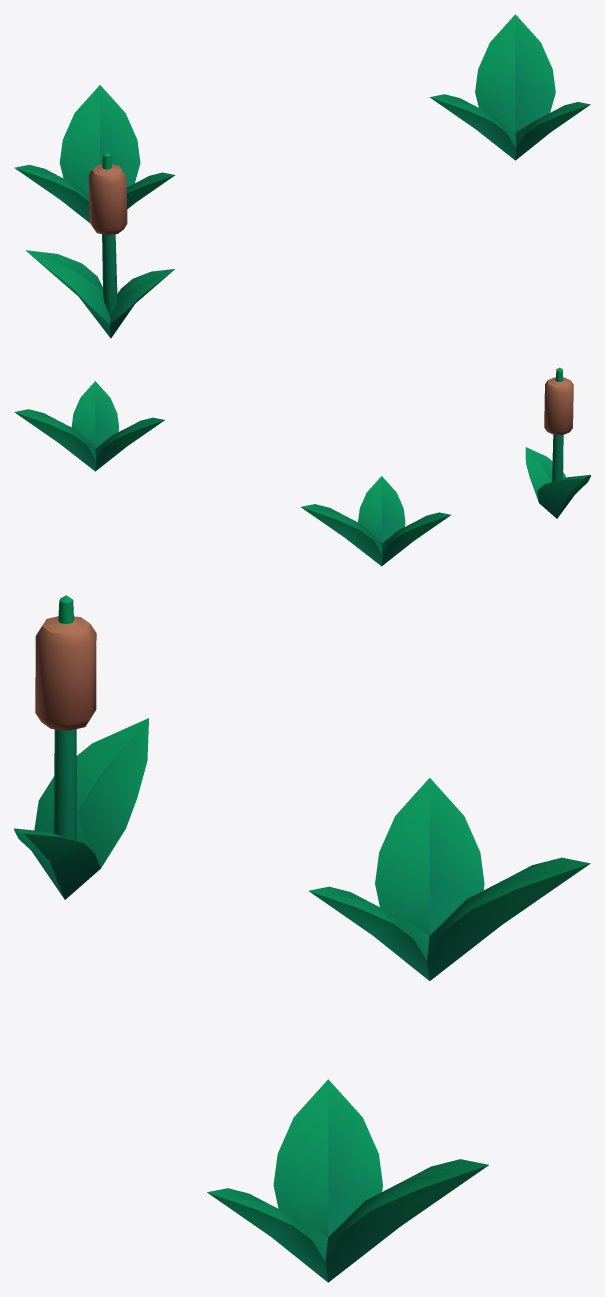
Rendered from water_plants_2.glb.
3 renders of one model, top to bottom at view 1: azimuth 30°, elevation 25°; view 2: azimuth 150°, elevation 25°; view 3: azimuth 270°, elevation 25°, orthographic. The views are drawn at different scales.
Visible parts, largest first — view 1: waterplant_A, waterplant_A.001, waterplant_B; view 2: waterplant_A.001, waterplant_A, waterplant_B; view 3: waterplant_A.001, waterplant_A, waterplant_B.
Boxes of the visible parts, <box> form: waterplant_A: <box>429,14,590,160</box>; waterplant_A.001: <box>14,85,175,222</box>; waterplant_B: <box>26,152,174,338</box>; waterplant_A.001: <box>301,476,451,566</box>; waterplant_A: <box>14,381,164,471</box>; waterplant_B: <box>525,367,590,518</box>; waterplant_A.001: <box>308,778,590,980</box>; waterplant_A: <box>207,1079,488,1282</box>; waterplant_B: <box>14,595,148,899</box>.
Size of the model in its own units: 0.8501 by 0.2548 by 0.44.
3 materials, 3 textured.
